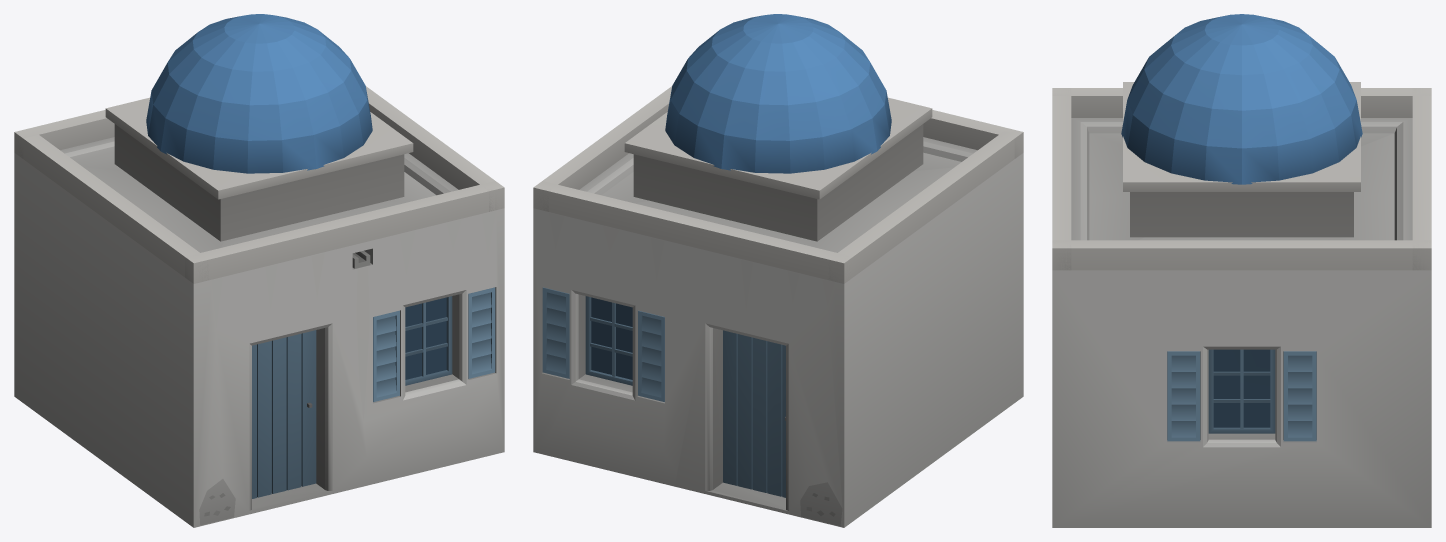
Rendered from dome1.glb.
3 renders of one model, left to right at view 1: azimuth 30°, elevation 25°; view 2: azimuth 150°, elevation 25°; view 3: azimuth 270°, elevation 25°, orthographic. The views are drawn at different scales.
Visible parts, largest first — view 1: dome1; view 2: dome1; view 3: dome1.
Part boxes in pixels (bbox=[...]): dome1: bbox=[14, 14, 504, 527]; dome1: bbox=[533, 14, 1023, 527]; dome1: bbox=[1052, 14, 1431, 527].
Bounding box in the file's own units: 4.4 × 5.42 × 4.4.
